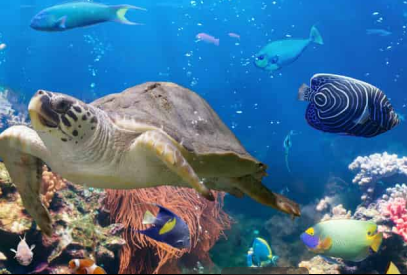fishLarge: (29, 2, 148, 31), (253, 28, 324, 72)
fishRound: (297, 72, 397, 139), (299, 216, 382, 262)
fishSmall: (135, 201, 192, 250), (10, 232, 36, 266), (67, 256, 108, 275)
turtle: (0, 79, 302, 235)
